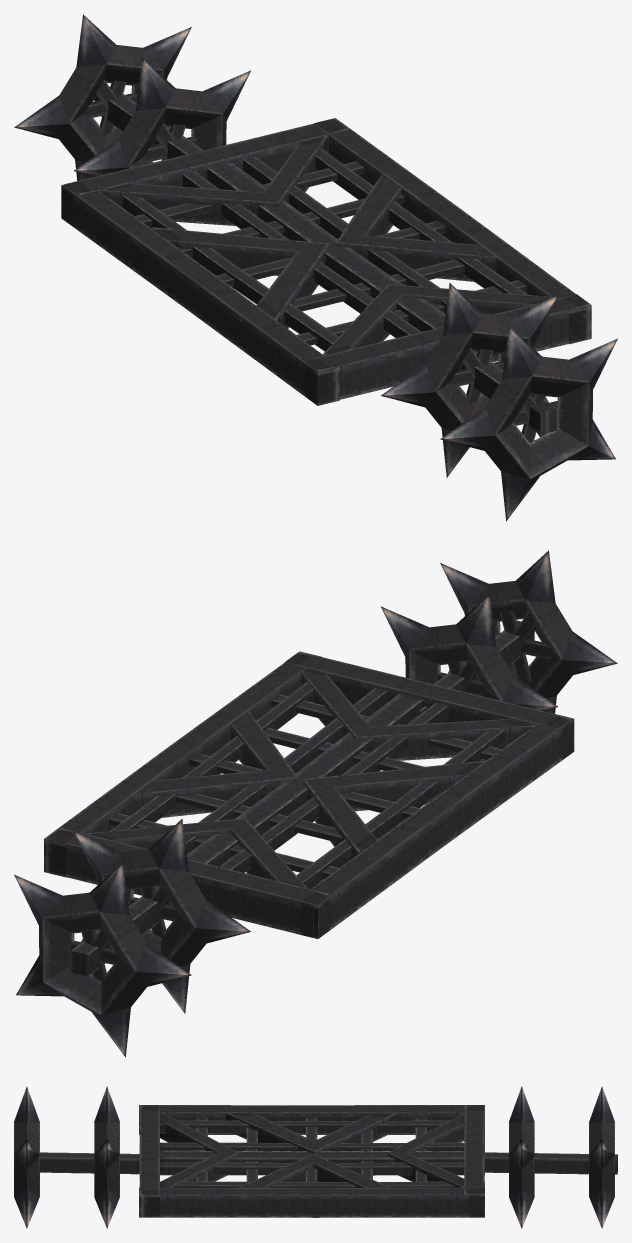
Rendered from 10504_IronRail13.FBX.
3 views of the same model, one above another, from view 1: azimuth 30°, elevation 25°; view 2: azimuth 150°, elevation 25°; view 3: azimuth 270°, elevation 25° (orthographic). The views are drawn at different scales.
Visible parts, largest first — view 1: 10504_IronRail13, 10504_IronRail13b; view 2: 10504_IronRail13, 10504_IronRail13b; view 3: 10504_IronRail13, 10504_IronRail13b.
Boxes of the visible parts, x1,y1,x2,y2 form: 10504_IronRail13: [61, 86, 591, 434]; 10504_IronRail13b: [14, 14, 617, 521]; 10504_IronRail13: [44, 620, 574, 976]; 10504_IronRail13b: [14, 550, 617, 1057]; 10504_IronRail13: [40, 1105, 617, 1217]; 10504_IronRail13b: [14, 1086, 614, 1228].
Bounding box in the file's own units: 276 × 187 × 778.
